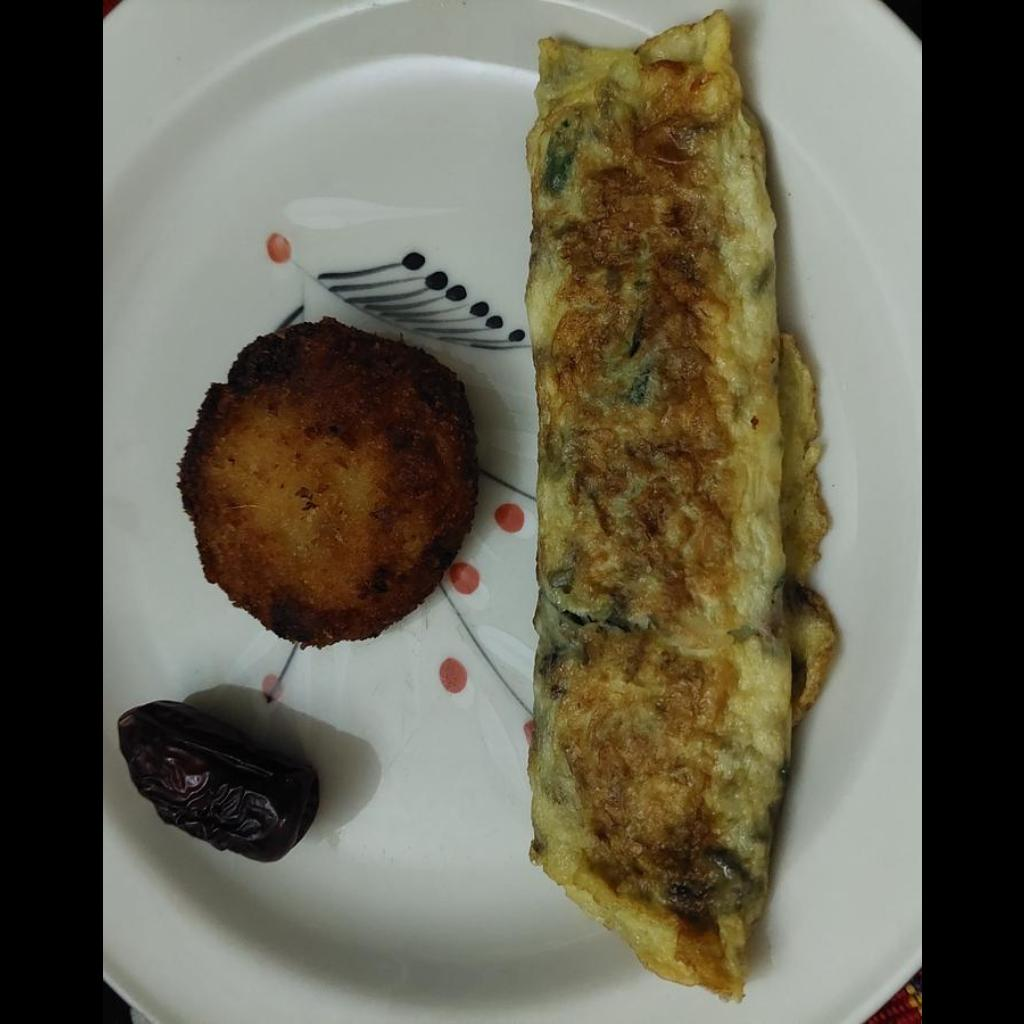dates: (120, 700, 314, 857)
egg-poached: (526, 10, 839, 1000)
kabab: (178, 320, 480, 652)
